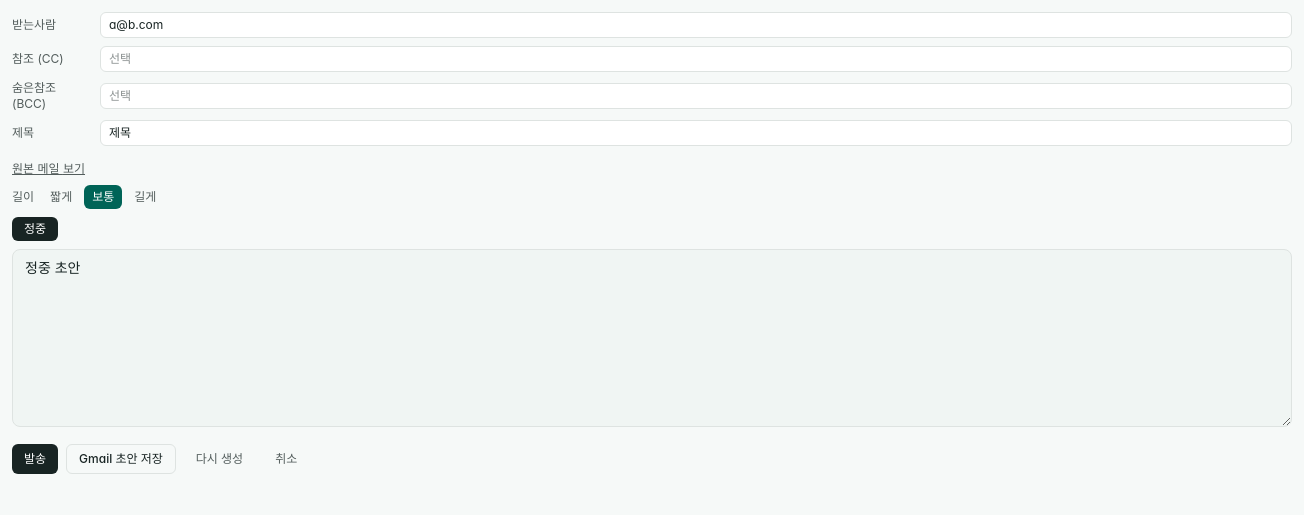
Test: invalid-recipient UI 경로 › 형식 오류 반환 → 인라인 alert + editing 유지(본문 보존)
Expected: the text box named "답장 본문 (정중)" is shown, 12,249 -> 1292,427
# 'Gmail 초안 저장' 클릭.
Click the button "Gmail 초안 저장" at [121, 459], box 66,444 -> 176,474
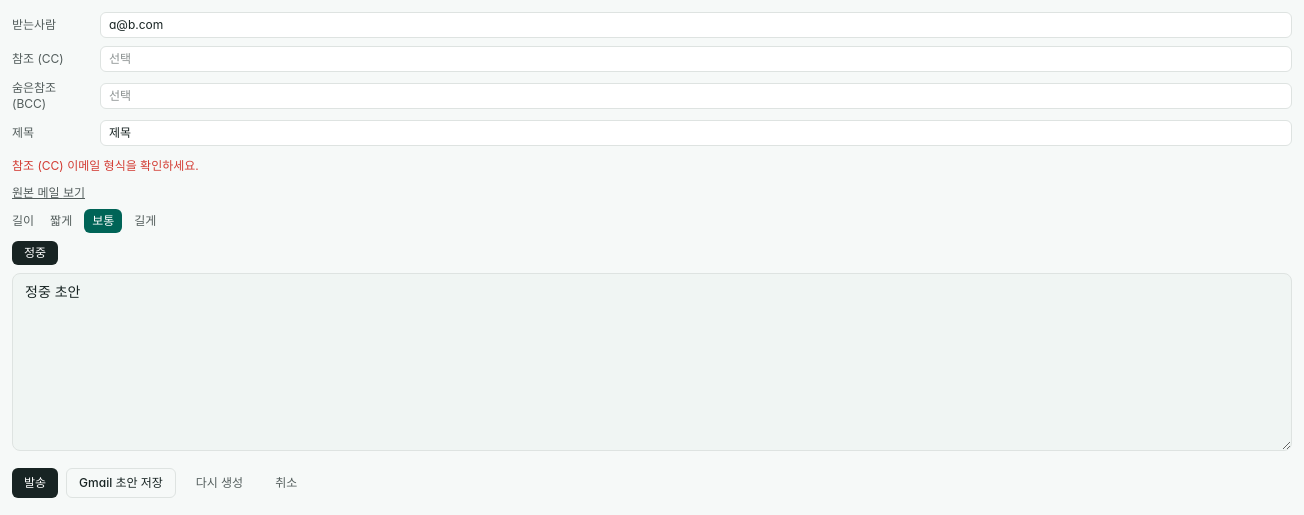
Expected: the text box named "답장 본문 (정중)" is shown, 12,273 -> 1292,451
Expected: the message "참조 (CC) 이메일 형식을 확인하세요." is shown, 12,158 -> 199,173
